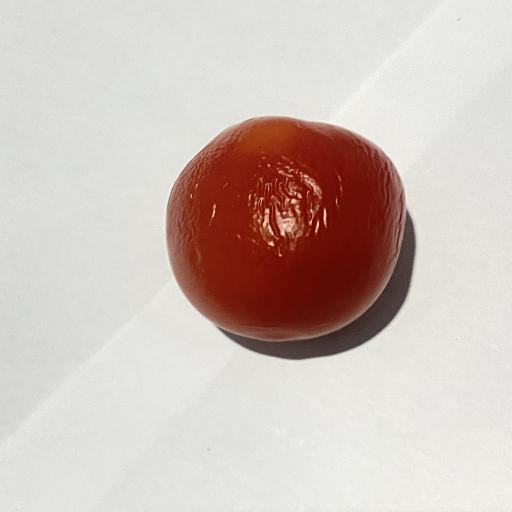spoiled: (166, 117, 406, 341)
